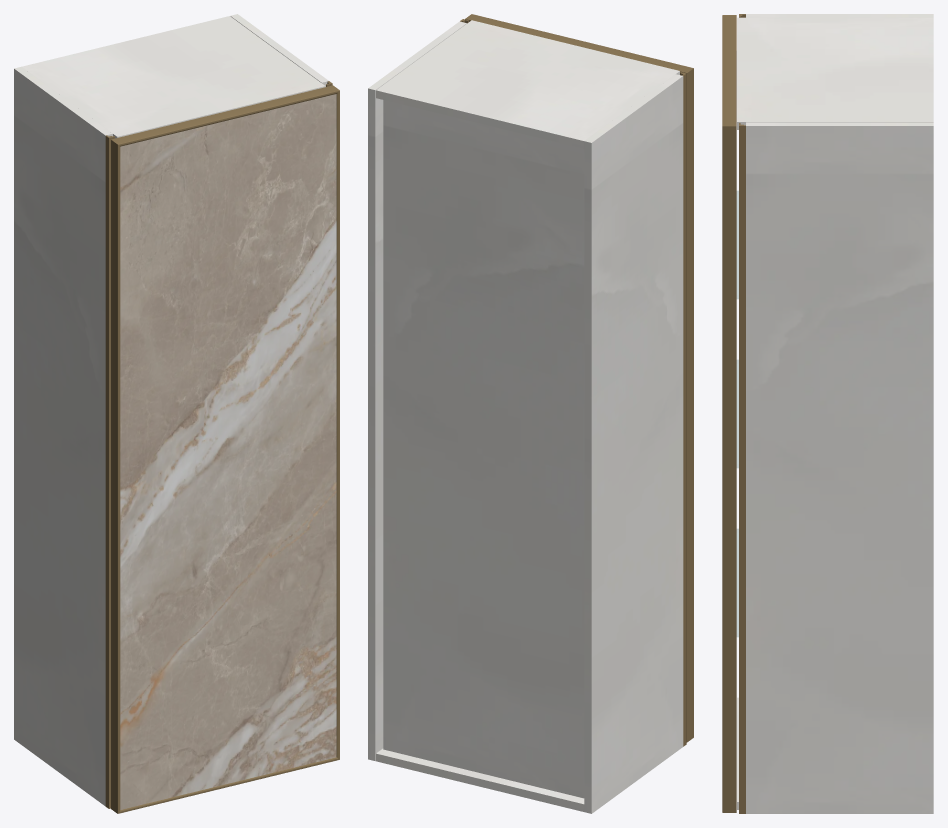
Rendered from MDW-SH-NHX-ST-3SG-RHS-XXX-450-1290-336-15.glb.
The picture shows the model from 3 angles, left to right: view 1: azimuth 30°, elevation 25°; view 2: azimuth 150°, elevation 25°; view 3: azimuth 270°, elevation 25°; orthographic projection. The views are drawn at different scales.
Parts seen in each view (by area): view 1: Object_node_1, TP_node_0, TP, Extrusion_node_1, Object_node_3, Extrusion_node, Extrusion, Extrusion_node_0, TP_node_1; view 2: TP_node_5, TP_node_0, TP, TP_node_1, Extrusion_node_1, TP_node, Object_node_3, Extrusion; view 3: TP_node_1, TP, Extrusion_node, Object_node_9, Extrusion, TP_node_0.
Part boxes in pixels (x1,y1,x2,y2): Object_node_1: (120,94,336,809); TP_node_0: (14,66,112,806); TP: (22,16,325,138); Extrusion_node_1: (111,140,120,813); Object_node_3: (105,135,114,808); Extrusion_node: (336,91,339,759); Extrusion: (111,85,339,146); Extrusion_node_0: (118,757,339,813); TP_node_1: (230,14,328,86); TP_node_5: (383,100,584,798); TP_node_0: (584,74,683,813); TP: (376,20,679,148); TP_node_1: (368,21,466,761); Extrusion_node_1: (686,68,693,742); TP_node: (376,748,584,811); Object_node_3: (680,72,686,746); Extrusion: (465,14,693,73); TP_node_1: (746,122,933,813); TP: (737,17,933,129); Extrusion_node: (722,126,736,812); Object_node_9: (739,123,745,813); Extrusion: (722,15,736,126); TP_node_0: (746,14,933,17).
Size of what is drawn, in the model's own units: 0.45 by 1.29 by 0.3593.
6 materials, 2 textured.
